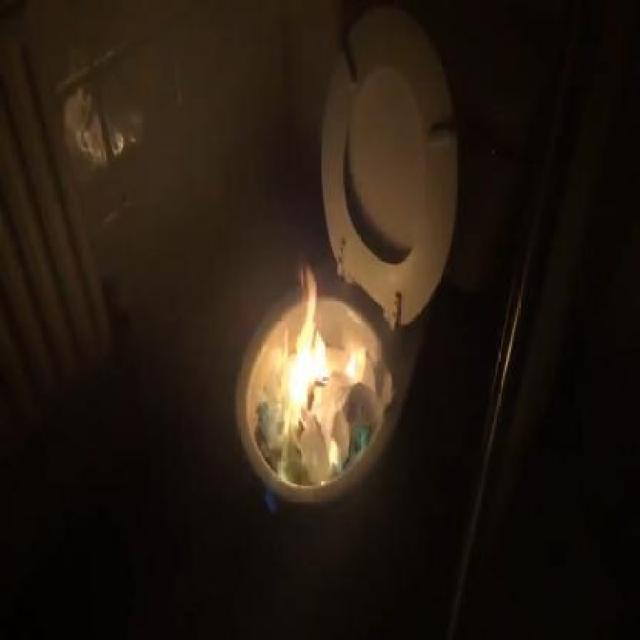Fire: (250, 262, 400, 476)
